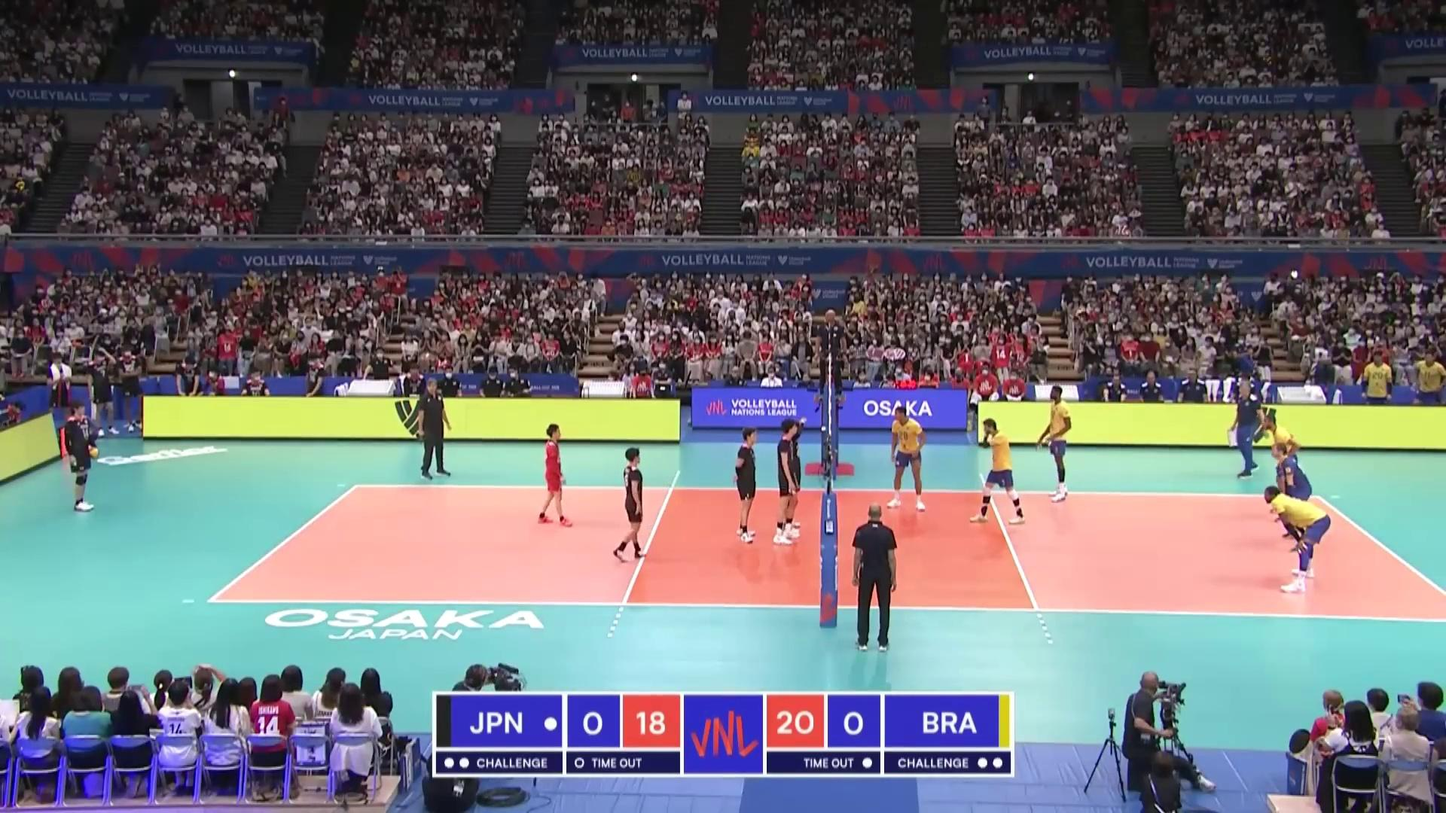player: (1264, 487, 1330, 596), (971, 415, 1025, 525), (1268, 444, 1315, 540), (1038, 385, 1075, 501), (1262, 416, 1301, 522), (888, 405, 926, 513), (64, 400, 100, 514), (616, 447, 650, 561), (731, 428, 759, 543), (774, 417, 797, 546), (541, 426, 570, 526), (788, 417, 807, 539)
refree: (851, 506, 899, 650), (812, 310, 844, 402)
